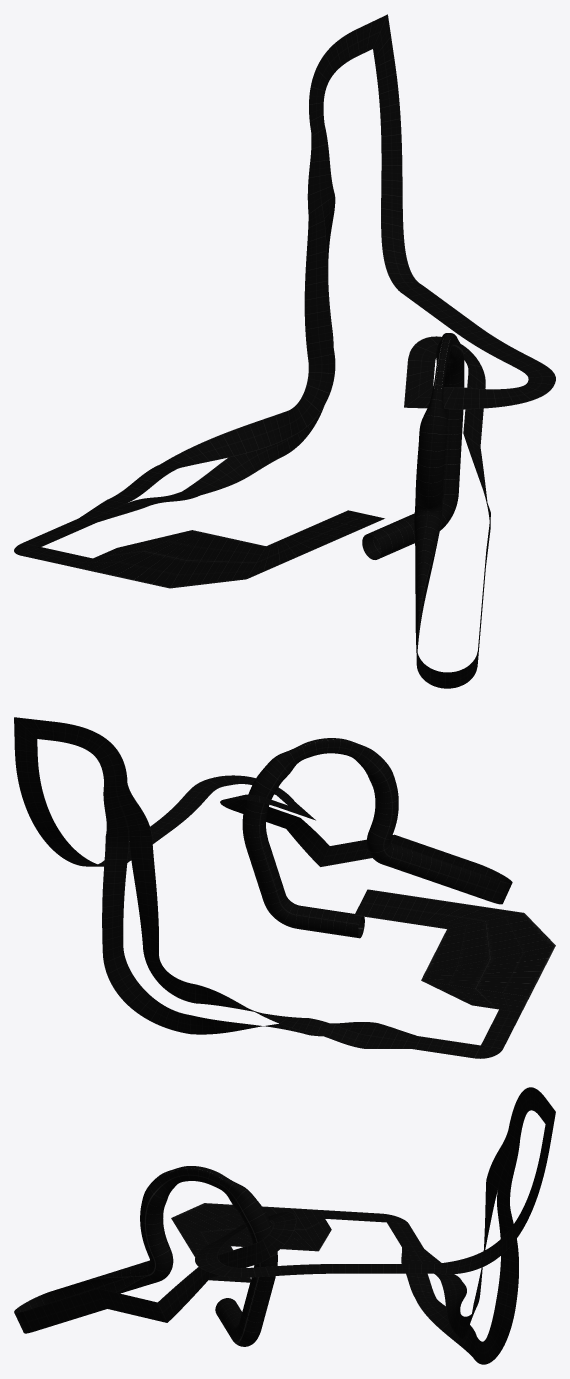
The model's file is test_track_2.glb.
3 views of the same model, one above another, from view 1: azimuth 30°, elevation 25°; view 2: azimuth 150°, elevation 25°; view 3: azimuth 270°, elevation 25° (orthographic). The views are drawn at different scales.
Parts seen in each view (by area): view 1: MXTRoadSegment.143_PreviewMesh; view 2: MXTRoadSegment.143_PreviewMesh; view 3: MXTRoadSegment.143_PreviewMesh.
Part boxes in pixels (x1,y1,x2,y2): MXTRoadSegment.143_PreviewMesh: (14, 14, 555, 688); MXTRoadSegment.143_PreviewMesh: (14, 717, 555, 1058); MXTRoadSegment.143_PreviewMesh: (14, 1087, 555, 1364).
Size of the model in its own units: 1794 by 1380 by 2111.
3 materials, 1 textured.
